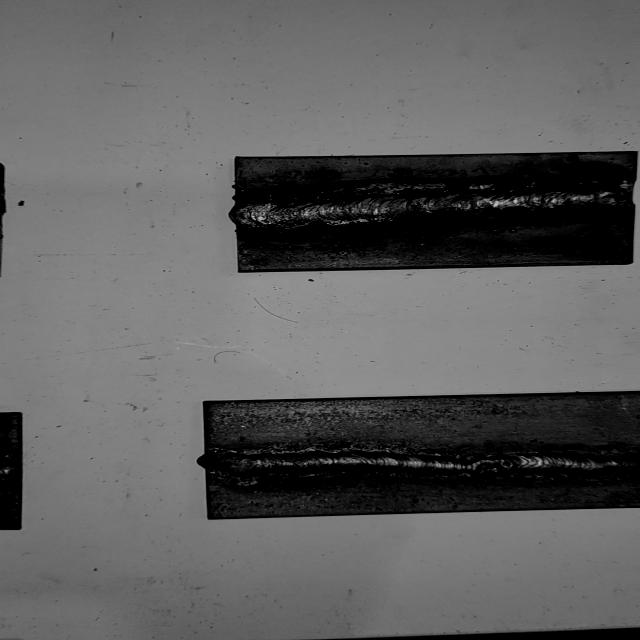Good Weld: (242, 182, 630, 228), (212, 451, 640, 477)
